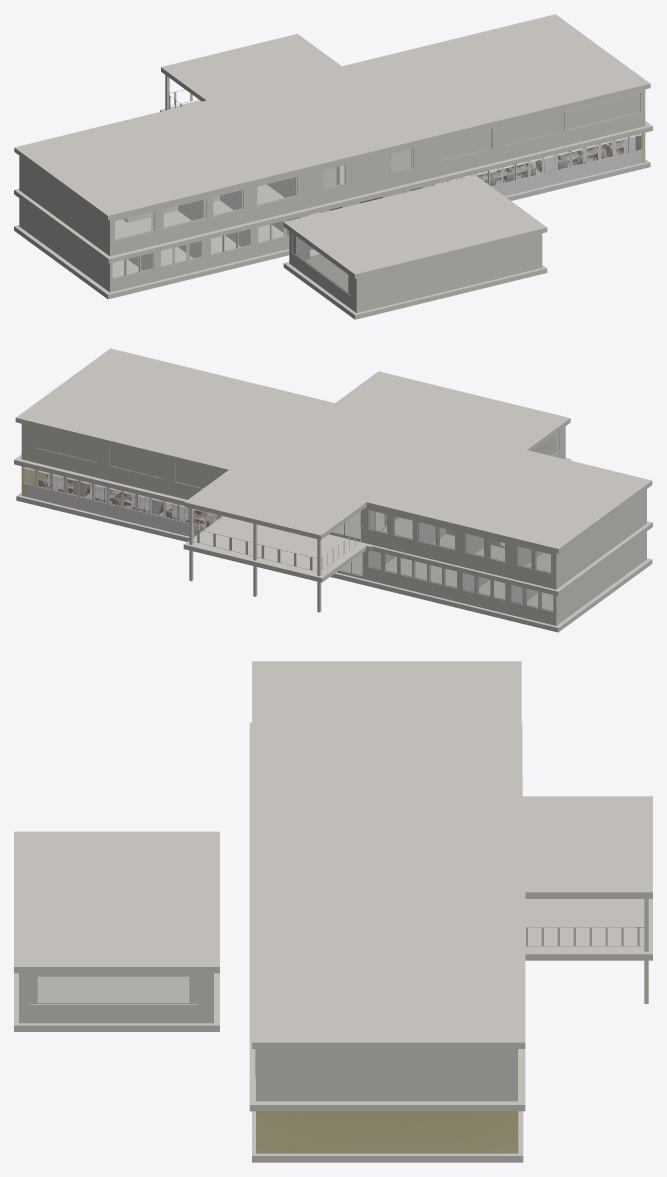
File: founder_space_walk.glb
The picture shows the model from 3 angles, top to bottom: view 1: azimuth 30°, elevation 25°; view 2: azimuth 150°, elevation 25°; view 3: azimuth 270°, elevation 25°; orthographic projection. The views are drawn at different scales.
Parts seen in each view (by area): view 1: BEYOND_L2_SLAB, UPPER_in_zone, BEYOND_L0_WALL, BEYOND_L1_WALL, BEYOND_L0_SLAB, BEYOND_L1_SLAB, BEYOND_L1_GLASS, BEYOND_L0_GLASS, BAKE_wall_south, GLASS_zone, BAKE_furn_a, BAKE_furn_b (+3 smaller); view 2: BEYOND_L2_SLAB, UPPER_in_zone, BEYOND_L1_SLAB, BEYOND_L1_WALL, BEYOND_L0_WALL, BEYOND_L0_SLAB, BAKE_wall_north, BEYOND_L0_GLASS, BEYOND_L1_GLASS, GLASS_zone, BAKE_furn_b, BAKE_furn_a (+6 smaller); view 3: BEYOND_L2_SLAB, UPPER_in_zone, BEYOND_L1_SLAB, BEYOND_L0_SLAB, BAKE_wall_north, BEYOND_L0_WALL, BAKE_wall_south, BEYOND_L0_GLASS, BEYOND_L0_FRAME.
Boxes of the visible parts, x1,y1,x2,y2 form: BEYOND_L2_SLAB: (14, 14, 650, 278); UPPER_in_zone: (341, 16, 645, 178); BEYOND_L0_WALL: (19, 178, 542, 313); BEYOND_L1_WALL: (19, 141, 431, 256); BEYOND_L0_SLAB: (14, 159, 650, 319); BEYOND_L1_SLAB: (14, 100, 652, 263); BEYOND_L1_GLASS: (115, 149, 411, 238); BEYOND_L0_GLASS: (113, 187, 421, 291); BAKE_wall_south: (410, 133, 645, 196); GLASS_zone: (436, 134, 641, 185); BAKE_furn_a: (477, 140, 623, 185); BAKE_furn_b: (435, 133, 641, 184); BEYOND_L2_SLAB: (15, 348, 652, 553); UPPER_in_zone: (21, 350, 325, 499); BEYOND_L1_SLAB: (14, 454, 652, 596); BEYOND_L1_WALL: (329, 489, 646, 589); BEYOND_L0_WALL: (336, 426, 646, 625); BEYOND_L0_SLAB: (16, 458, 652, 632); BAKE_wall_north: (21, 466, 220, 536); BEYOND_L0_GLASS: (340, 434, 555, 610); BEYOND_L1_GLASS: (333, 510, 550, 572); GLASS_zone: (24, 467, 217, 526); BAKE_furn_b: (24, 467, 222, 522); BAKE_furn_a: (38, 474, 214, 526); BEYOND_L2_SLAB: (14, 661, 652, 1048); UPPER_in_zone: (255, 890, 518, 1101); BEYOND_L1_SLAB: (249, 722, 652, 1111); BEYOND_L0_SLAB: (14, 775, 523, 1162); BAKE_wall_north: (256, 1111, 518, 1153); BEYOND_L0_WALL: (19, 973, 213, 1023); BAKE_wall_south: (256, 1111, 466, 1153); BEYOND_L0_GLASS: (38, 977, 188, 1002); BEYOND_L0_FRAME: (29, 976, 197, 1003).
Size of the model in its own units: 38.22 by 5.6 by 27.
11 materials, 8 textured.
